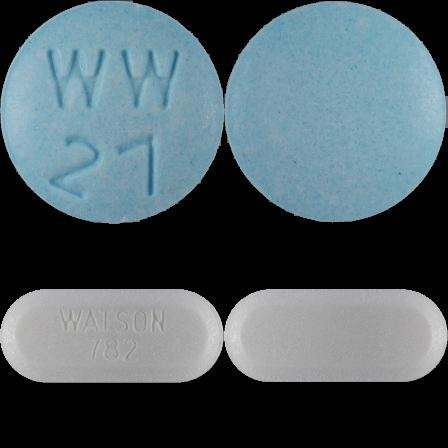10544-597: (0, 0, 224, 224)
